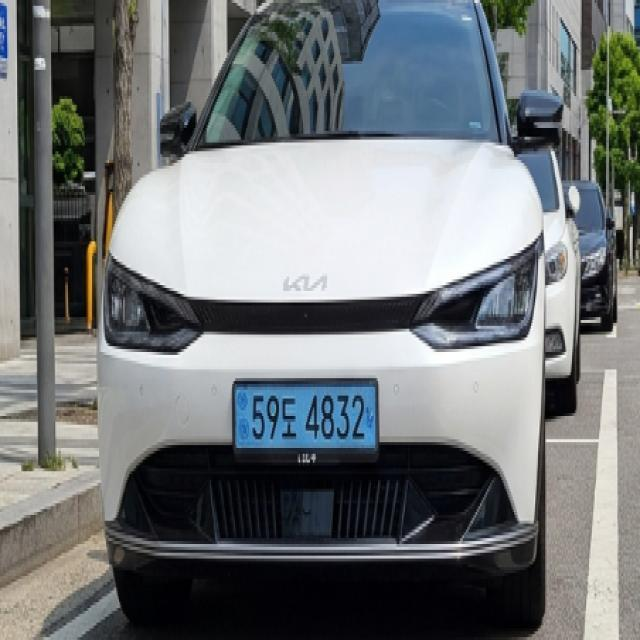car: (223, 371, 388, 490)
carev: (234, 381, 252, 453), (362, 386, 377, 455)
